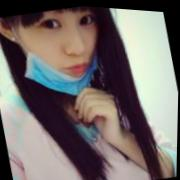WRONG: (17, 2, 115, 103)
